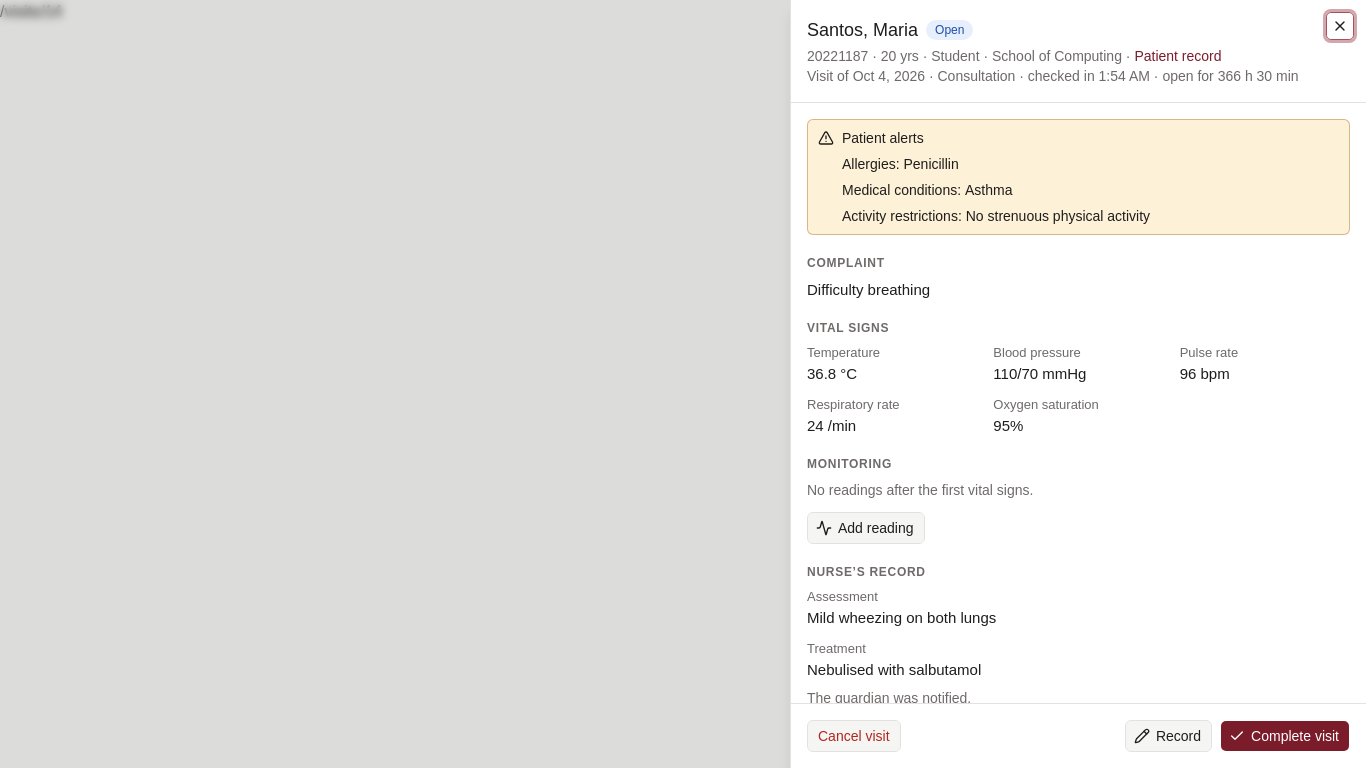
Test: cancels an open visit after confirmation, with the reason
Click the button "Cancel visit" at (854, 736), box [807,720,901,752]
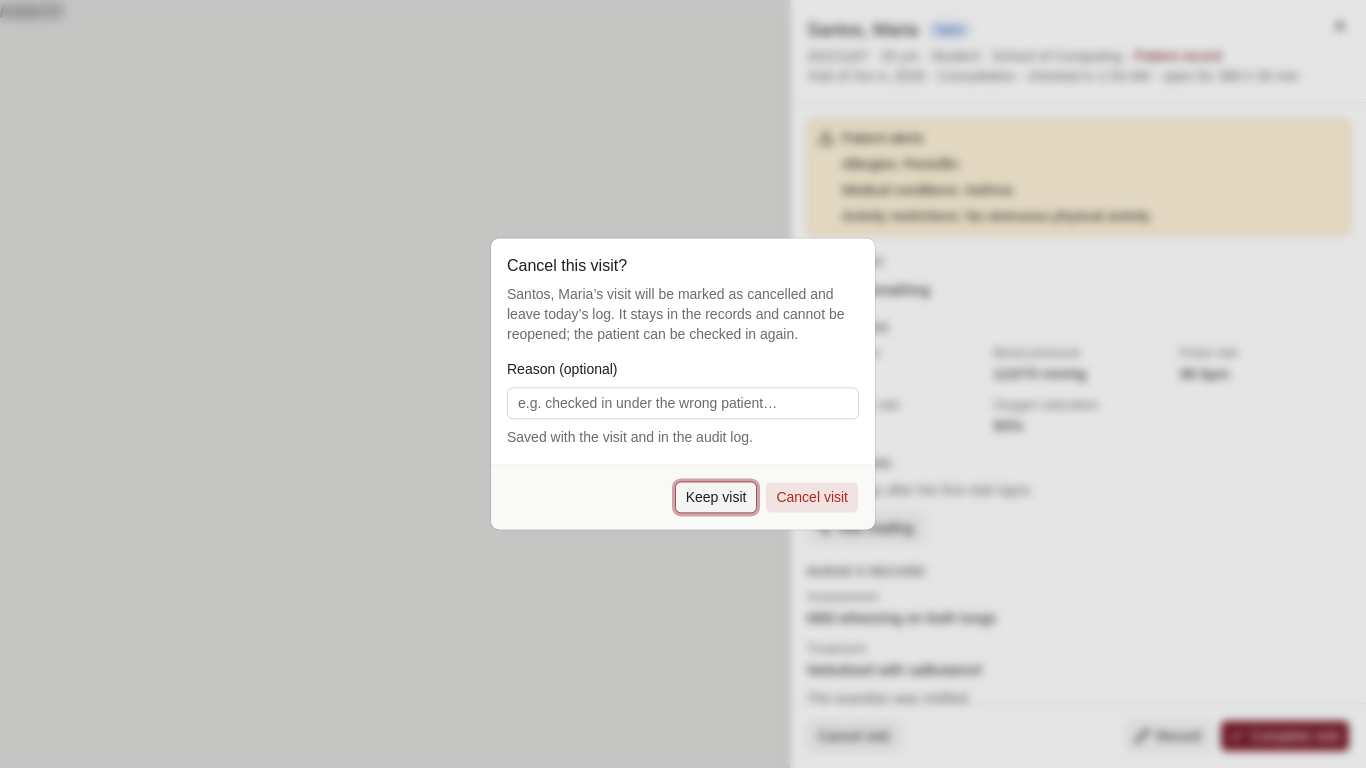
Type "Wrong patient" into the field labelled "Reason (optional)" at (683, 404), box [507,388,859,420]
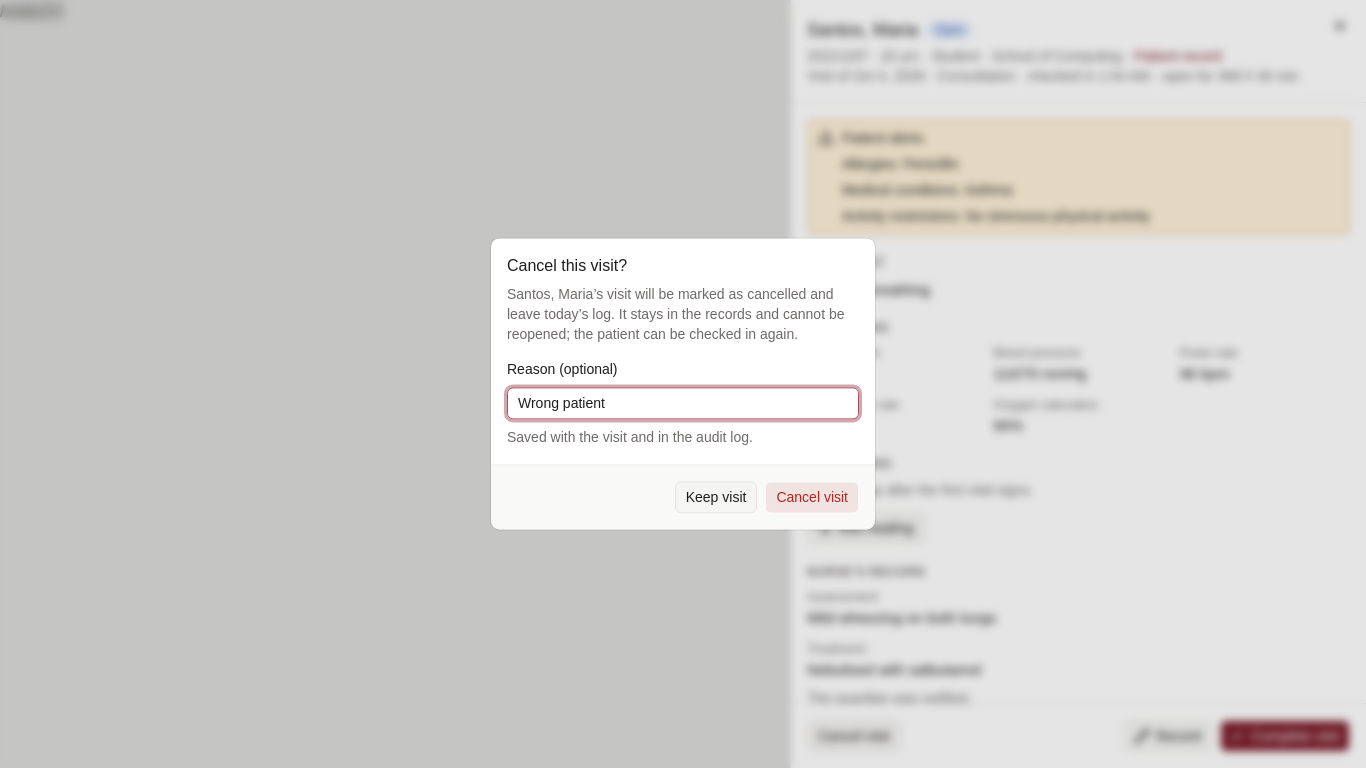
Click the button "Cancel visit" at (812, 498), box [765,482,859,514]
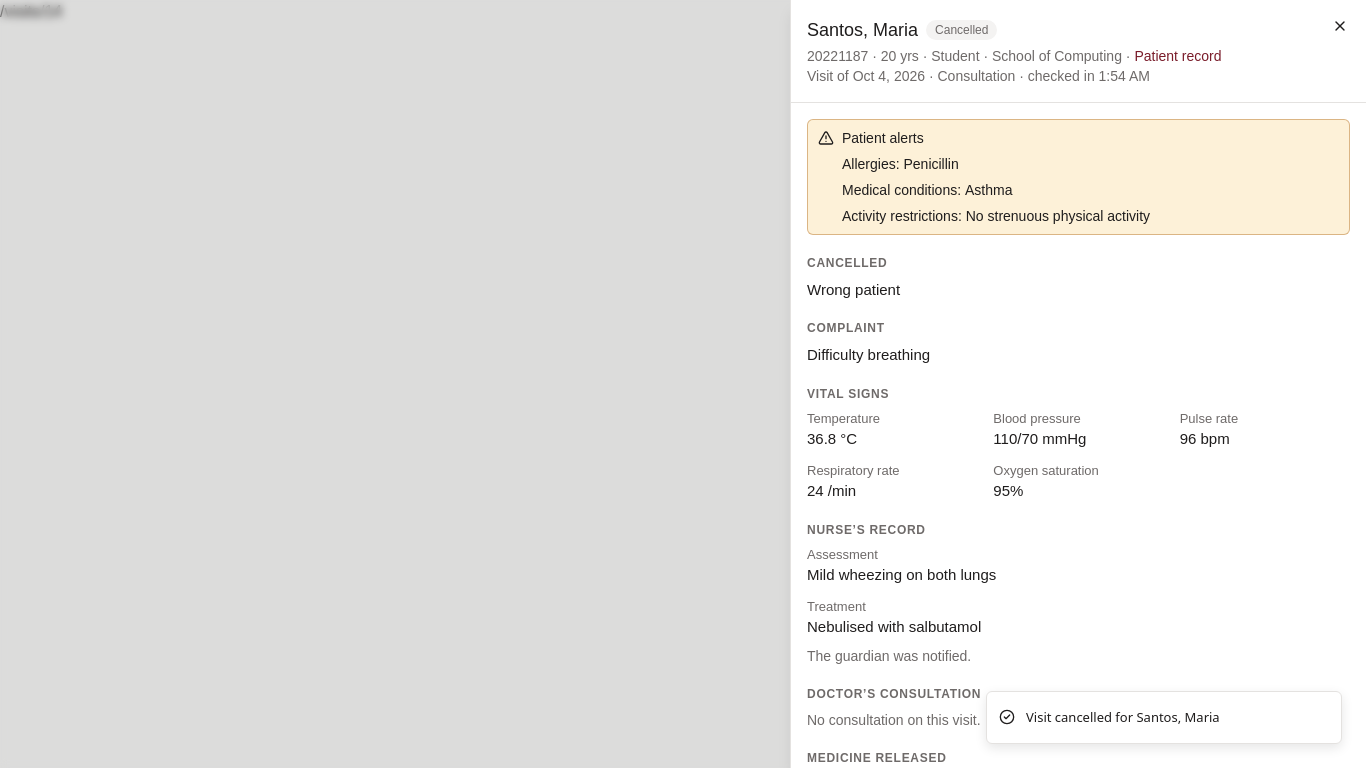
Result: the text "Visit cancelled for Santos, Maria" is shown at [1026,708,1220,727]
Result: the text "Wrong patient" is shown at [807,281,900,298]
Result: the button "Cancel visit" is gone
